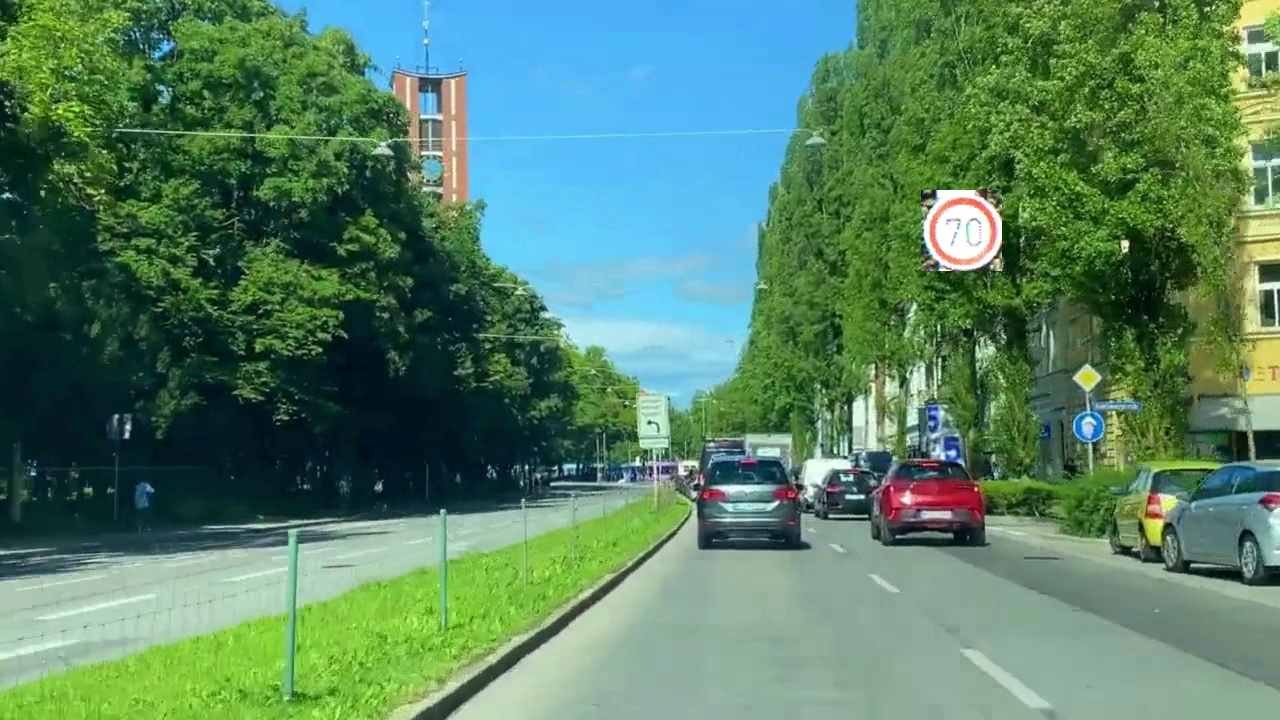Speed 70: (921, 190, 1002, 271)
